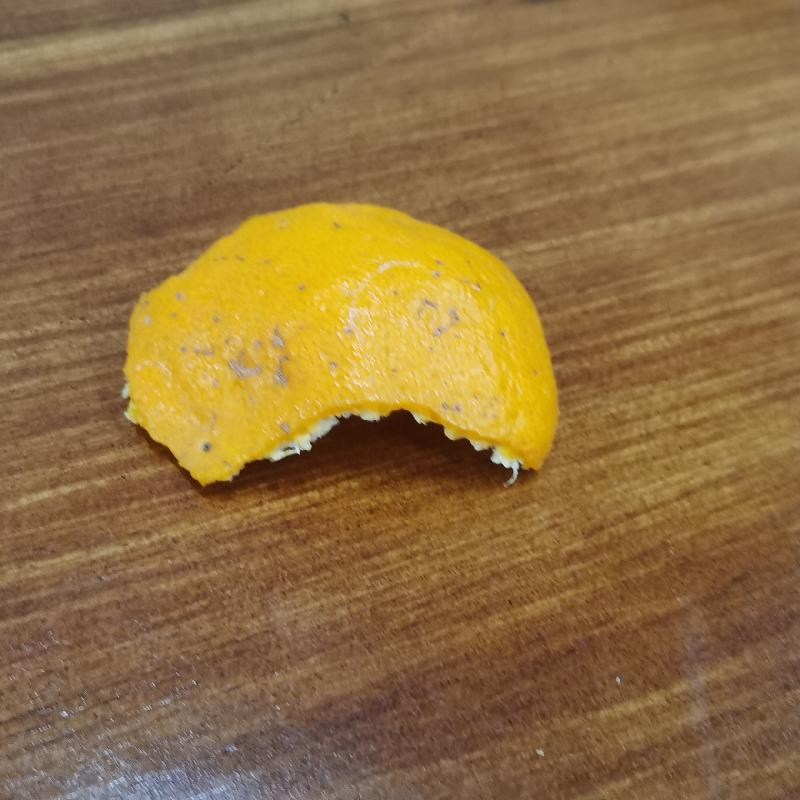orange: (115, 205, 565, 481)
